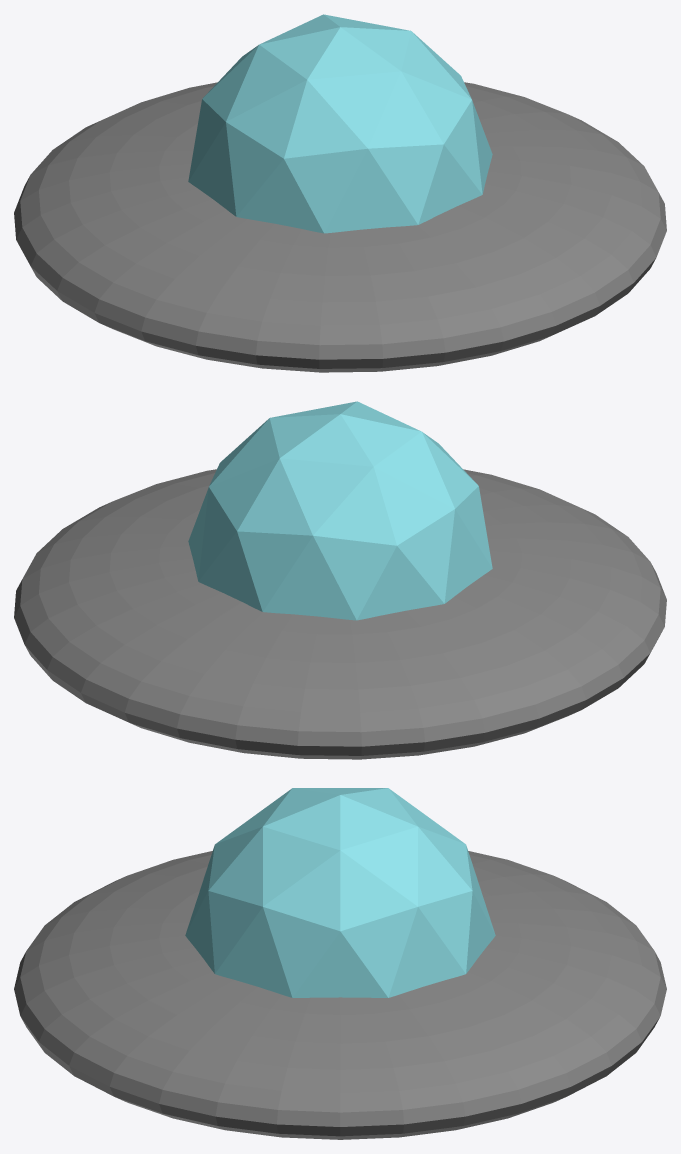
Rendered from UFO1WIP.fbx.
The picture shows the model from 3 angles, top to bottom: view 1: azimuth 30°, elevation 25°; view 2: azimuth 150°, elevation 25°; view 3: azimuth 270°, elevation 25°; orthographic projection.
Parts seen in each view (by area): view 1: Sphere; view 2: Sphere; view 3: Sphere.
Part boxes in pixels (bbox=[...]): Sphere: bbox=[14, 14, 666, 372]; Sphere: bbox=[14, 401, 666, 759]; Sphere: bbox=[14, 788, 666, 1139].
Bounding box in the file's own units: 1011 × 436 × 1011.
